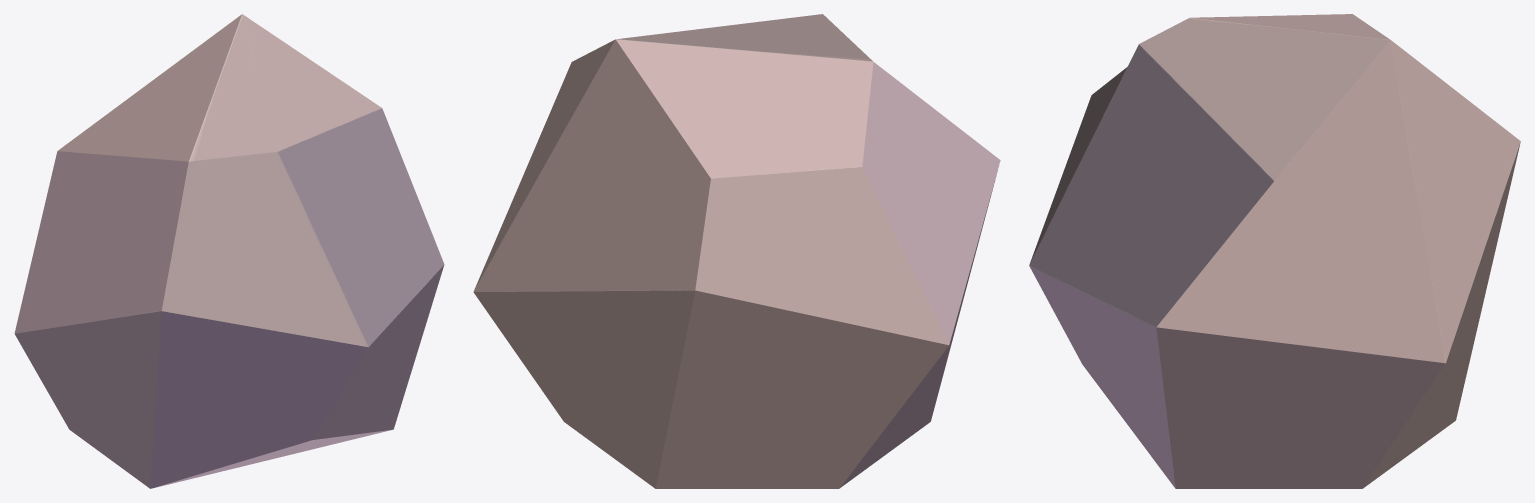
The model's file is rocha-1.fbx.
3 renders of one model, left to right at view 1: azimuth 30°, elevation 25°; view 2: azimuth 150°, elevation 25°; view 3: azimuth 270°, elevation 25°, orthographic. The views are drawn at different scales.
Visible parts, largest first — view 1: rocha-1; view 2: rocha-1; view 3: rocha-1.
Part boxes in pixels (left/top/right/bottom): rocha-1: left=14, top=14, right=444, bottom=488; rocha-1: left=473, top=14, right=1000, bottom=488; rocha-1: left=1029, top=14, right=1520, bottom=488.
Size of the model in its own units: 183 by 174 by 186.
